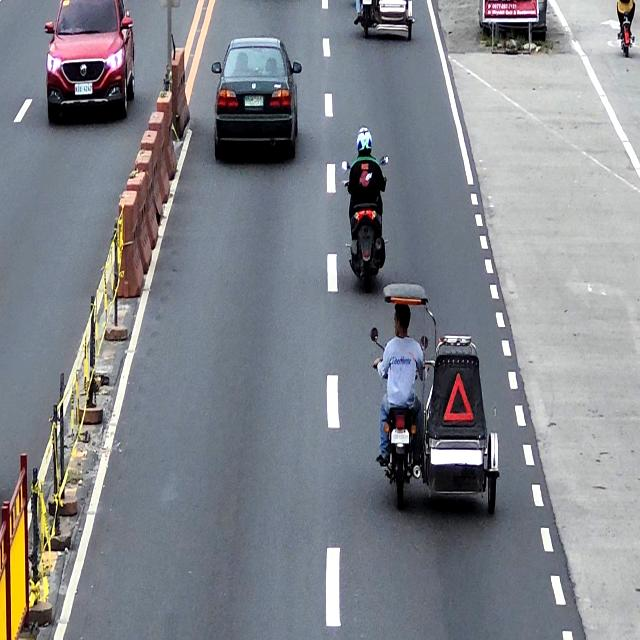Car: (44, 0, 136, 127), (212, 37, 301, 161)
License-Plate: (391, 428, 409, 444), (244, 94, 264, 107), (74, 83, 93, 95)
Motorcycle: (342, 154, 388, 292)
Tricycle: (373, 283, 502, 518), (355, 0, 415, 40)
